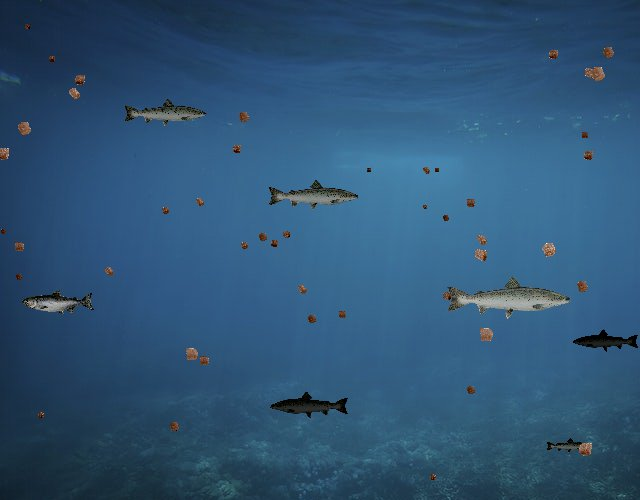Fish: (444, 274, 573, 320), (266, 179, 360, 212), (122, 97, 208, 128), (270, 391, 351, 420), (22, 290, 95, 316), (573, 328, 640, 353), (546, 437, 593, 454)
Pellet: (571, 435, 599, 463), (467, 242, 494, 269), (62, 81, 87, 106), (570, 275, 594, 299), (426, 470, 440, 484), (34, 408, 48, 422), (21, 21, 33, 33)
